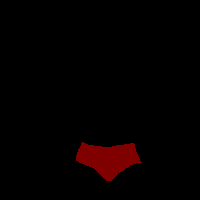mutande: (76, 141, 142, 181)
